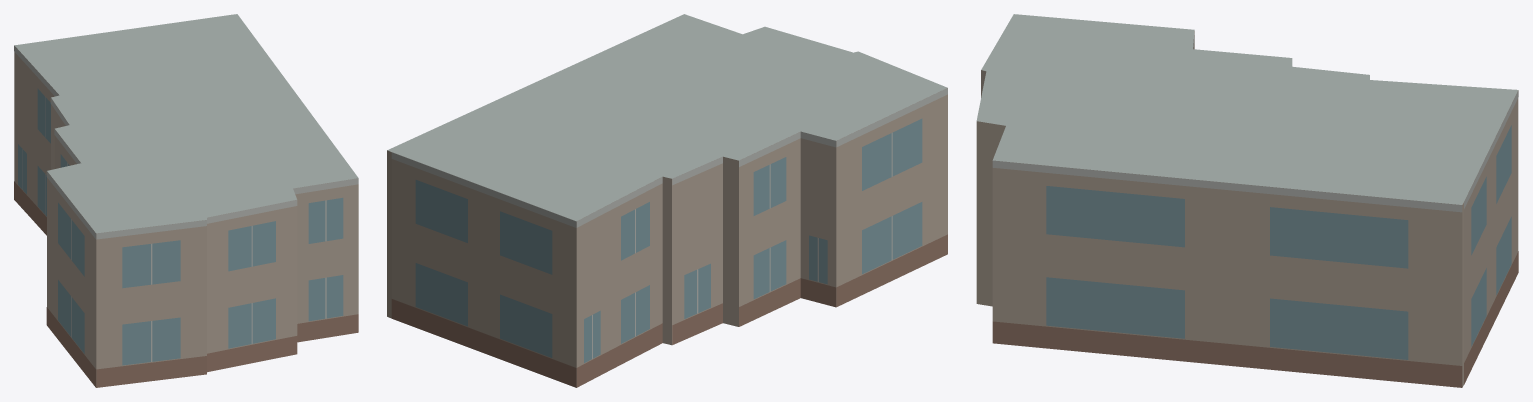
The model's file is survey-upis-32678283.glb.
The picture shows the model from 3 angles, left to right: view 1: azimuth 30°, elevation 25°; view 2: azimuth 150°, elevation 25°; view 3: azimuth 270°, elevation 25°; orthographic projection. The views are drawn at different scales.
Visible parts, largest first — view 1: survey-upis-32678283.tmp; view 2: survey-upis-32678283.tmp; view 3: survey-upis-32678283.tmp.
Boxes of the visible parts, <box> form: survey-upis-32678283.tmp: <box>14,14,358,387</box>; survey-upis-32678283.tmp: <box>387,14,947,387</box>; survey-upis-32678283.tmp: <box>976,14,1518,387</box>.
Bounding box in the file's own units: 13.68 × 6.1 × 16.4.
